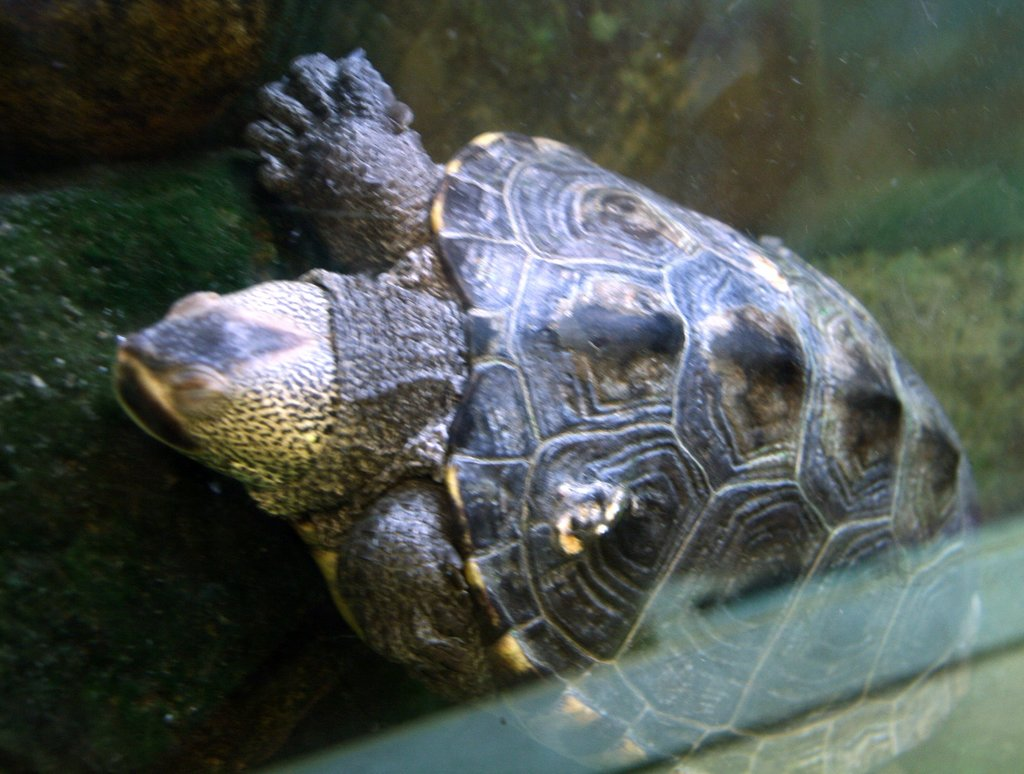Sea turtles: (97, 49, 972, 773)
